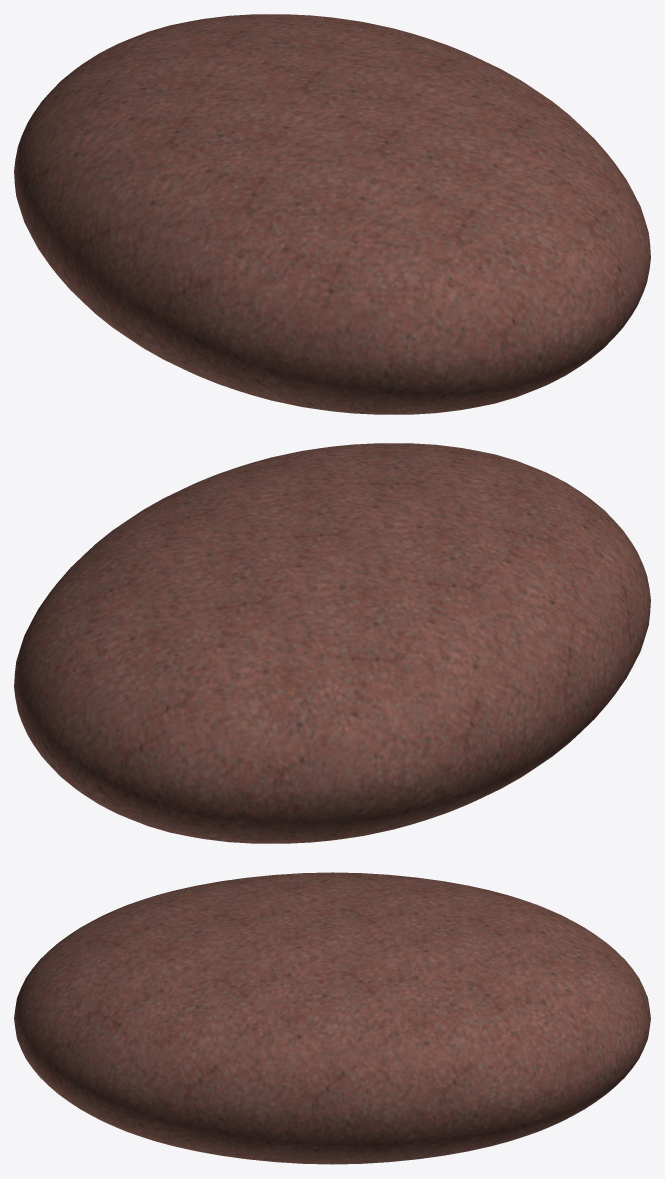
File: pebble.obj
The picture shows the model from 3 angles, top to bottom: view 1: azimuth 30°, elevation 25°; view 2: azimuth 150°, elevation 25°; view 3: azimuth 270°, elevation 25°; orthographic projection. The views are drawn at different scales.
Visible parts, largest first — view 1: peb_body; view 2: peb_body; view 3: peb_body.
Boxes of the visible parts, bbox=[...] form: peb_body: bbox=[14, 14, 650, 414]; peb_body: bbox=[14, 443, 650, 843]; peb_body: bbox=[14, 872, 650, 1164].
Size of the model in its own units: 13.18 by 6.28 by 17.85.
